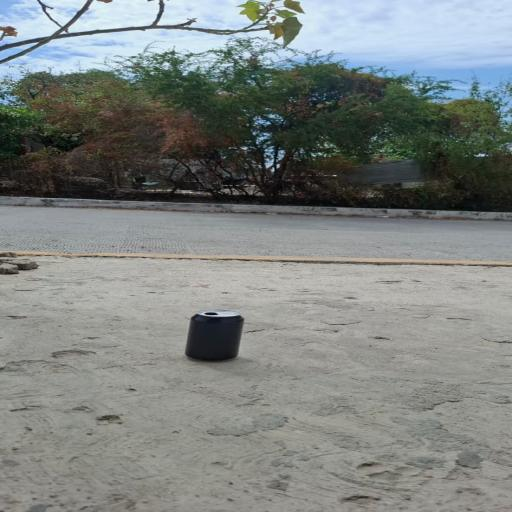LATA: (142, 305, 270, 372)
